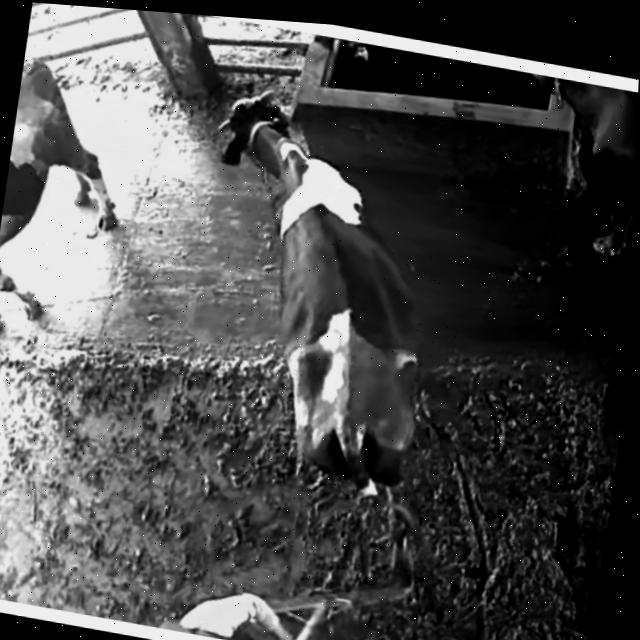drink: (466, 62, 629, 160)
